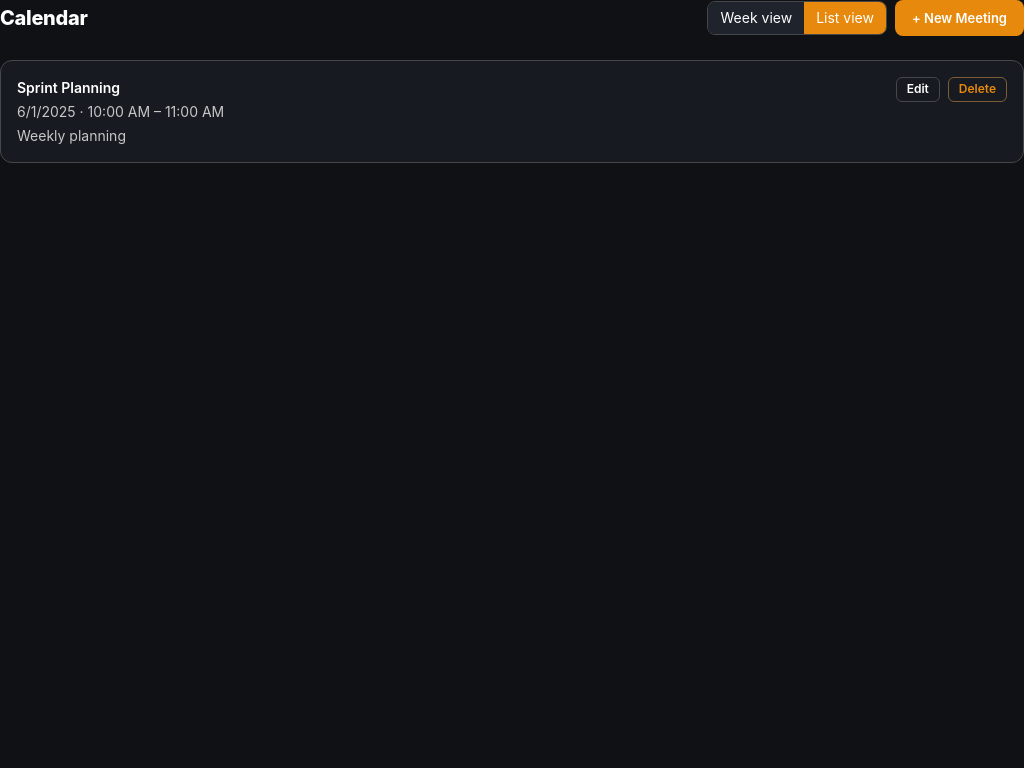
Test case: Calendar page › shows conflict warnings after saving an overlapping meeting
The width and height of the screenshot is (1024, 768).
Click the button "+ New Meeting" at (960, 18), box [895,0,1023,36]
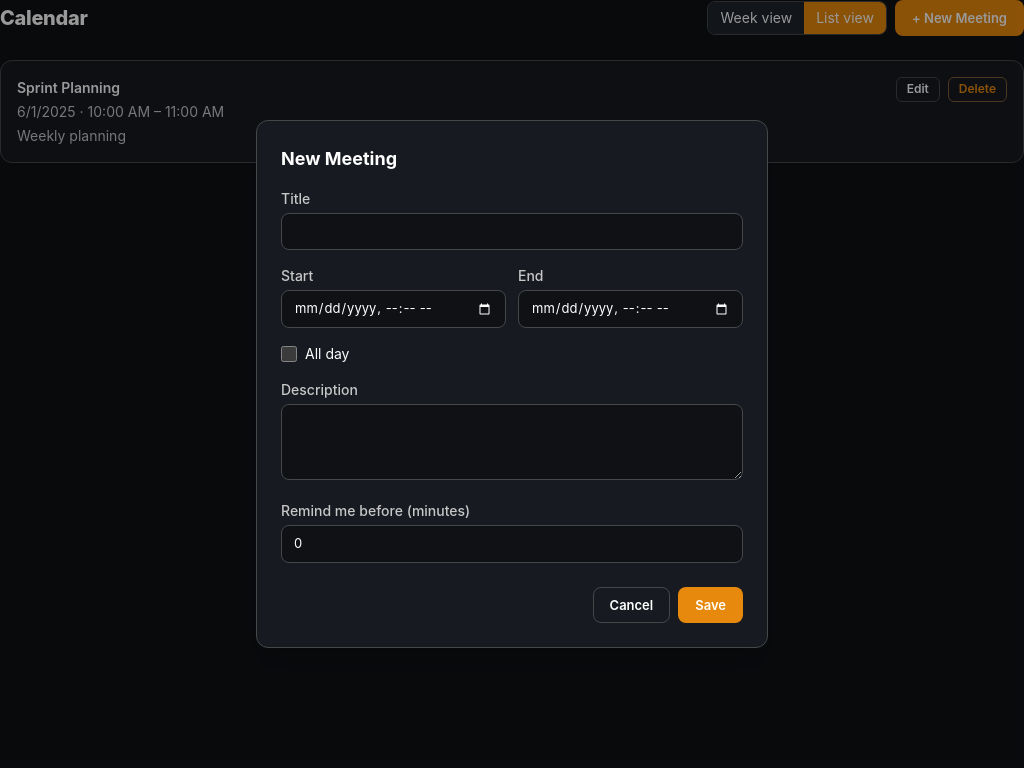
Type "Standup" into the field below "Title" at (512, 232), box [281,213,743,250]
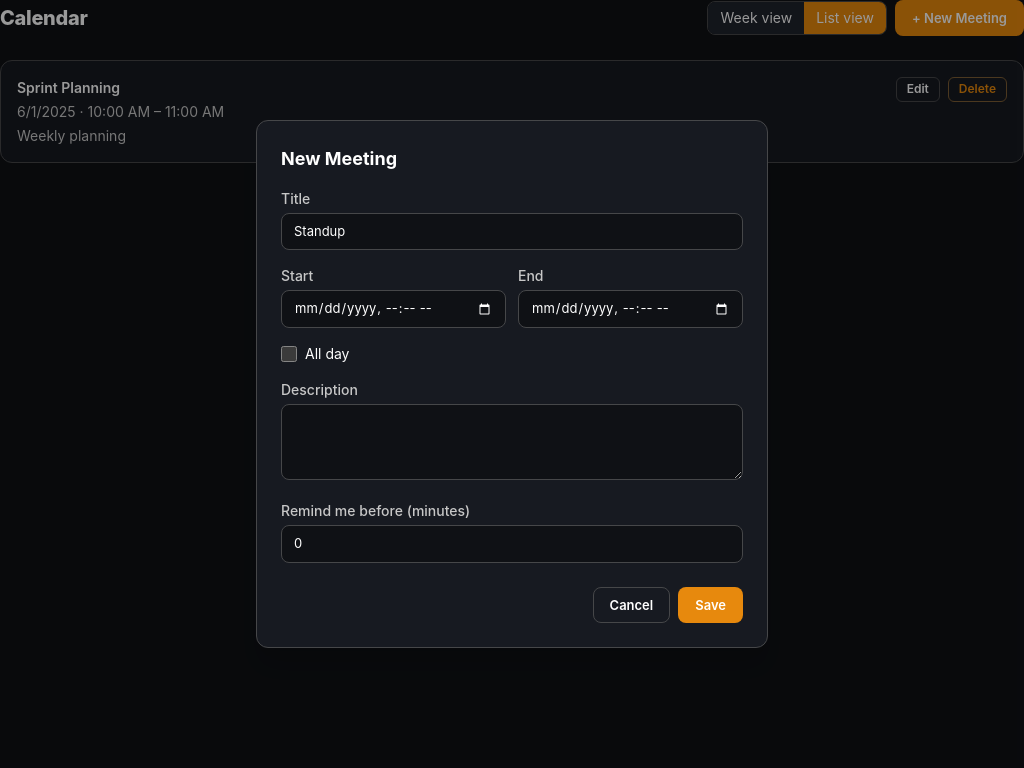
Type "2025-06-01T10:00" into the field below "Start" at (394, 309), box [281,290,506,328]
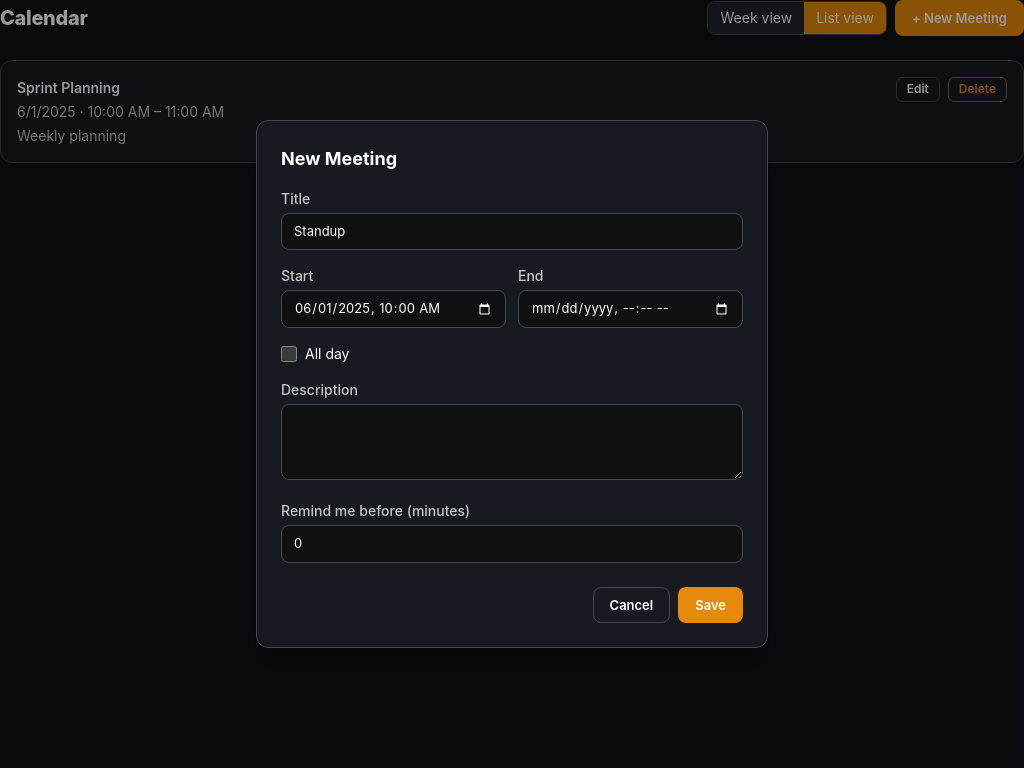
Type "2025-06-01T11:00" into the 3rd field at (630, 309), box [518,290,743,328]
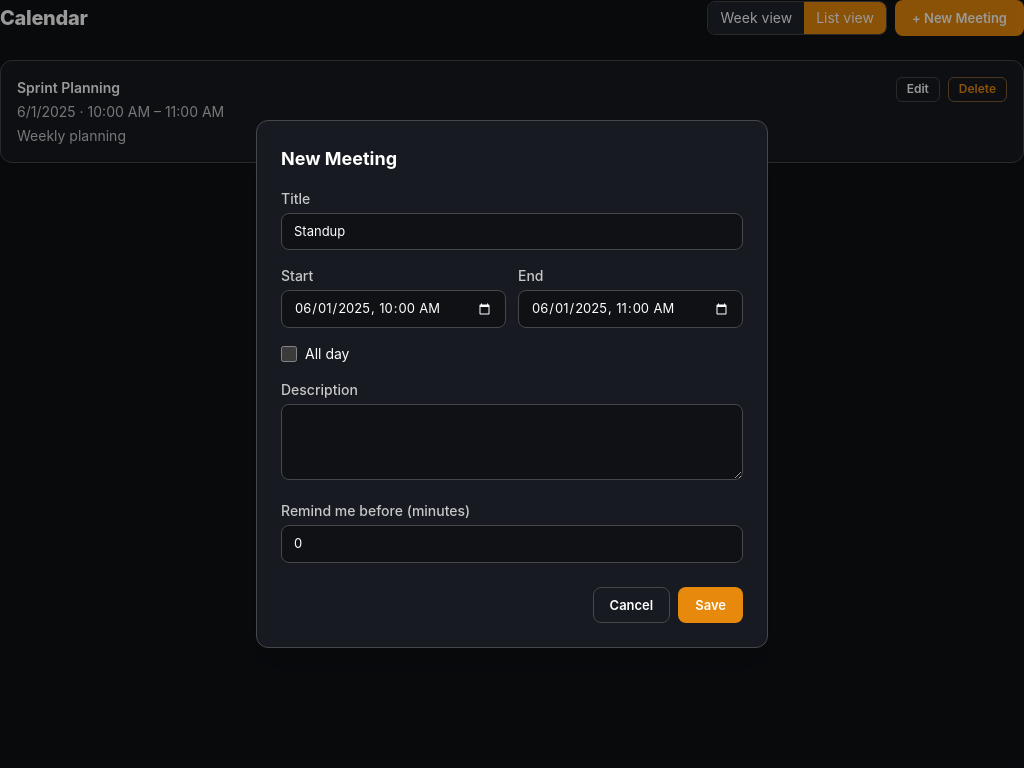
Click the button "Save" at (711, 605), box [678,587,743,623]
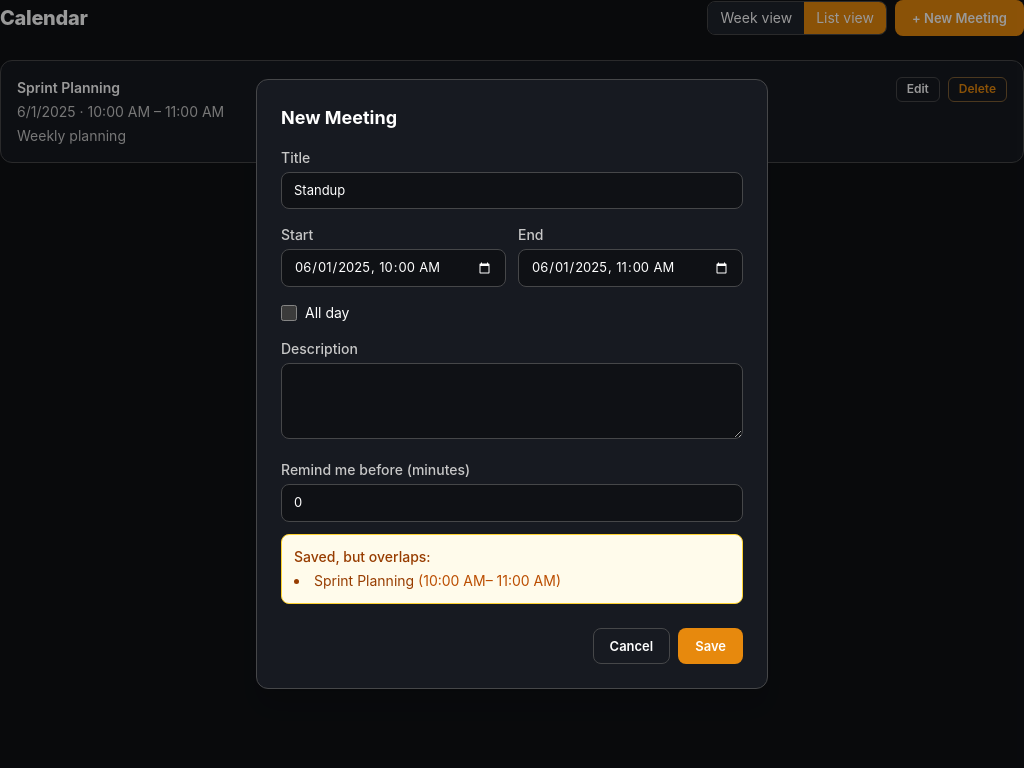
Now the text "Saved, but overlaps:" is shown, box [294,548,431,565]
